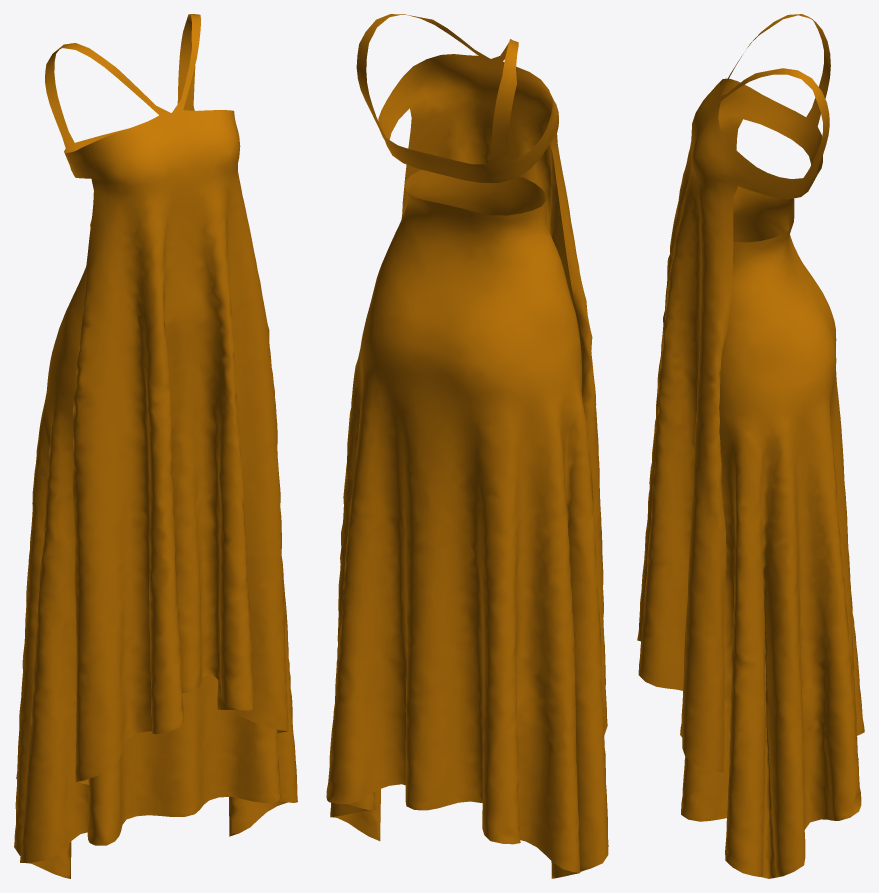
Rendered from long_evening_dress.glb.
The picture shows the model from 3 angles, left to right: view 1: azimuth 30°, elevation 25°; view 2: azimuth 150°, elevation 25°; view 3: azimuth 270°, elevation 25°; orthographic projection. The views are drawn at different scales.
Visible parts, largest first — view 1: dress; view 2: dress; view 3: dress.
Part boxes in pixels (box(x1,y1,x2,y2)): dress: box(14, 14, 297, 878); dress: box(326, 14, 608, 878); dress: box(637, 14, 864, 878).
Bounding box in the file's own units: 0.4992 × 1.46 × 0.3777.
